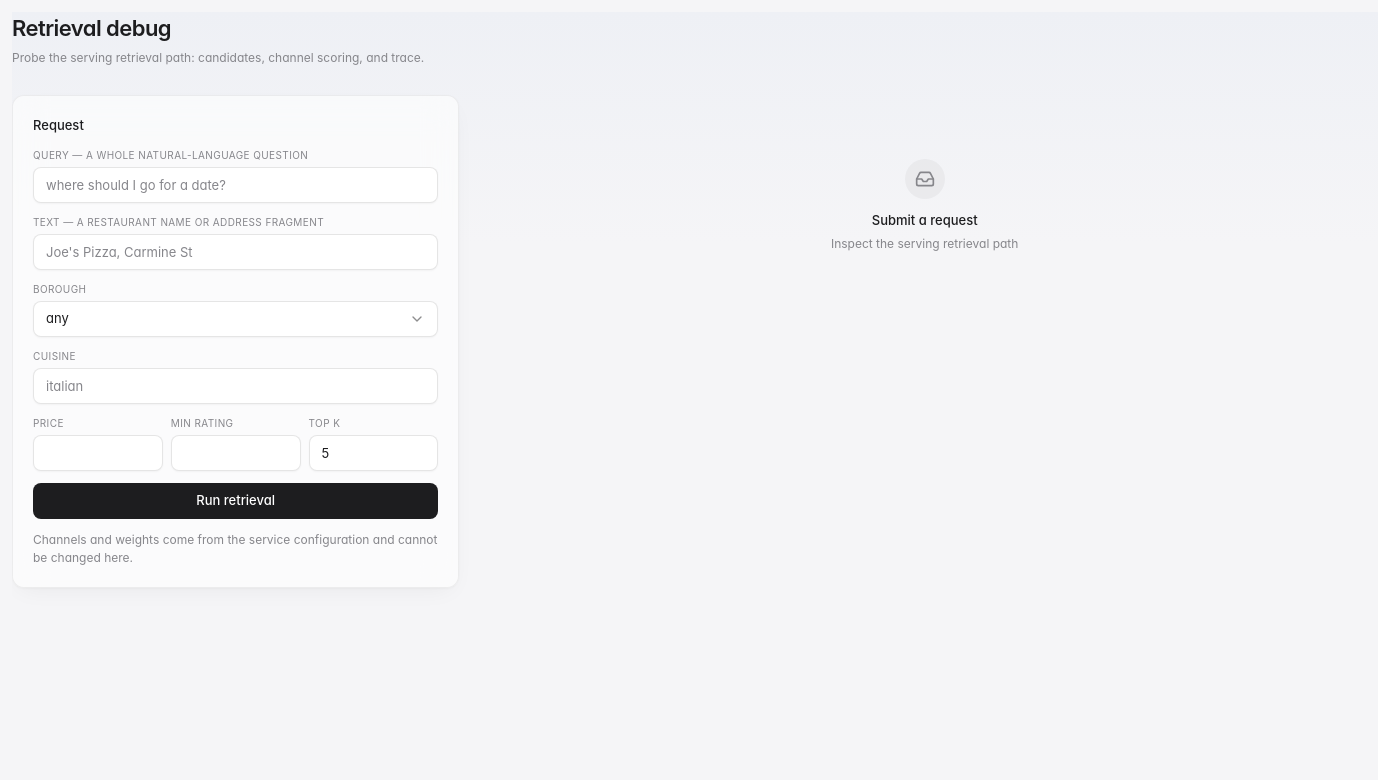
Test: runs search and shows candidates
Click the button "Run retrieval": click(236, 500) [33,482,438,518]
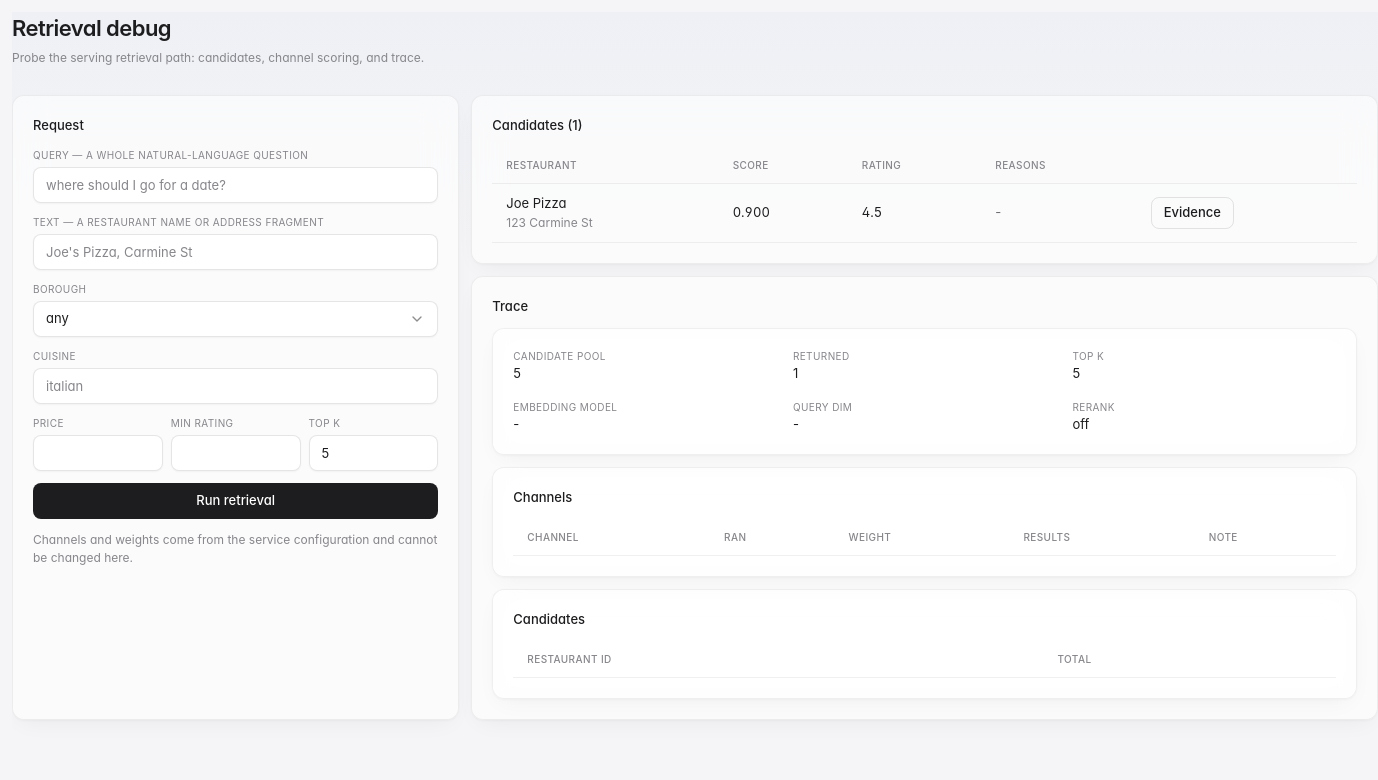
Now the text "Joe Pizza" is shown, box [506,195,566,211]
